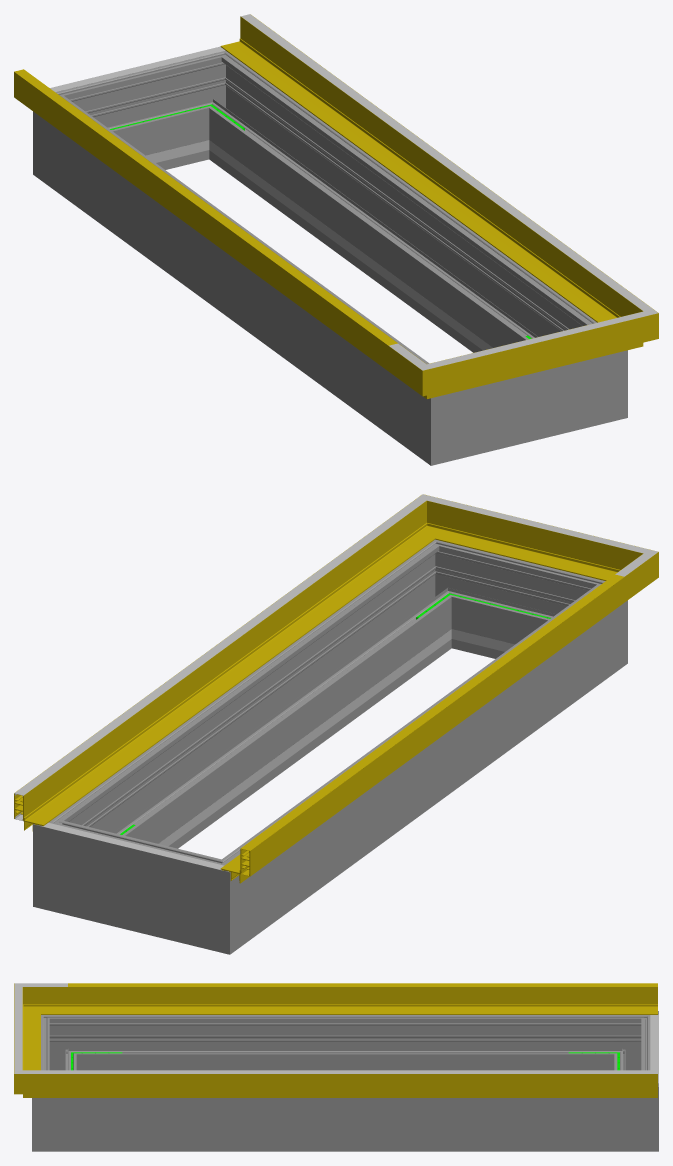
The picture shows the model from 3 angles, top to bottom: view 1: azimuth 30°, elevation 25°; view 2: azimuth 150°, elevation 25°; view 3: azimuth 270°, elevation 25°; orthographic projection. The views are drawn at different scales.
Parts seen in each view (by area): view 1: 3DGeom-297, 3DGeom-268, 3DGeom-58, 3DGeom-50, 3DGeom-276, 3DGeom-270, 3DGeom-298, 3DGeom-284, 3DGeom-290, 3DGeom-71, 3DGeom-64, 3DGeom-56 (+7 smaller); view 2: 3DGeom-297, 3DGeom-268, 3DGeom-58, 3DGeom-50, 3DGeom-278, 3DGeom-276, 3DGeom-298, 3DGeom-284, 3DGeom-290, 3DGeom-56, 3DGeom-71, 3DGeom-64 (+7 smaller); view 3: 3DGeom-268, 3DGeom-297, 3DGeom-50, 3DGeom-58, 3DGeom-284, 3DGeom-290, 3DGeom-64, 3DGeom-71, 3DGeom-278, 3DGeom-270, 3DGeom-52, 3DGeom-60 (+7 smaller).
Boxes of the visible parts, x1,y1,x2,y2 form: 3DGeom-297: (215,71,583,352); 3DGeom-268: (67,112,415,440); 3DGeom-58: (220,16,622,320); 3DGeom-50: (14,70,395,371); 3DGeom-276: (92,62,199,169); 3DGeom-270: (397,354,489,465); 3DGeom-298: (490,364,568,451); 3DGeom-284: (175,50,254,163); 3DGeom-290: (569,313,627,432); 3DGeom-71: (14,69,397,345); 3DGeom-64: (241,14,624,290); 3DGeom-56: (476,325,599,387); 3DGeom-297: (77,560,445,848); 3DGeom-268: (245,601,593,929); 3DGeom-58: (14,521,417,831); 3DGeom-50: (220,576,624,883); 3DGeom-278: (171,842,263,954); 3DGeom-276: (92,830,181,940); 3DGeom-298: (461,551,563,658); 3DGeom-284: (33,802,102,920); 3DGeom-290: (406,539,484,652); 3DGeom-56: (464,508,594,575); 3DGeom-71: (240,574,624,852); 3DGeom-64: (14,519,397,797); 3DGeom-268: (85,1015,605,1070); 3DGeom-297: (85,1098,605,1151); 3DGeom-50: (67,987,657,1014); 3DGeom-58: (67,1074,657,1097); 3DGeom-284: (605,1064,658,1151); 3DGeom-290: (32,1064,85,1151); 3DGeom-64: (68,1070,657,1073); 3DGeom-71: (68,983,657,986); 3DGeom-278: (605,1011,658,1070); 3DGeom-270: (41,1015,85,1070); 3DGeom-52: (14,983,67,1025); 3DGeom-60: (14,1051,67,1097).
Bounding box in the file's own units: 0.6096 × 0.2669 × 1.83.
